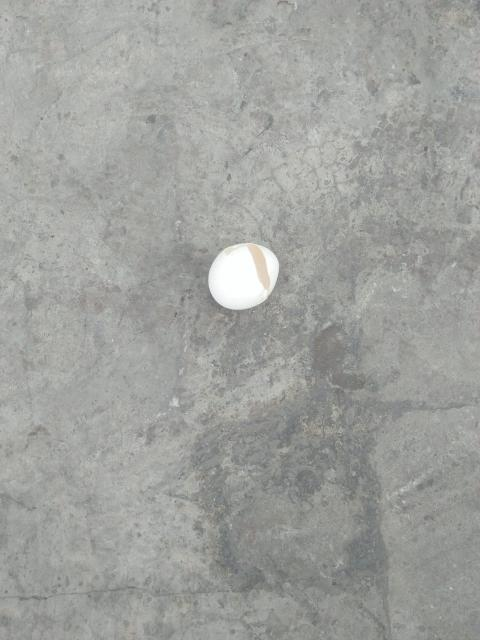Roto: (207, 242, 280, 310)
